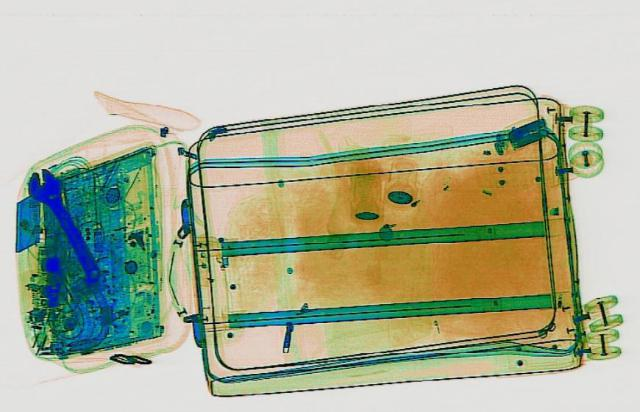Wrench: (15, 165, 114, 285)
